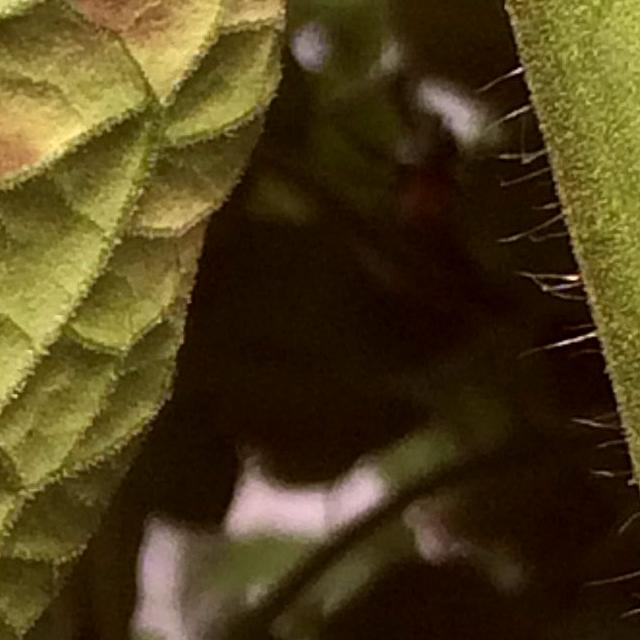Tomato mold leaf: (0, 0, 423, 640)
